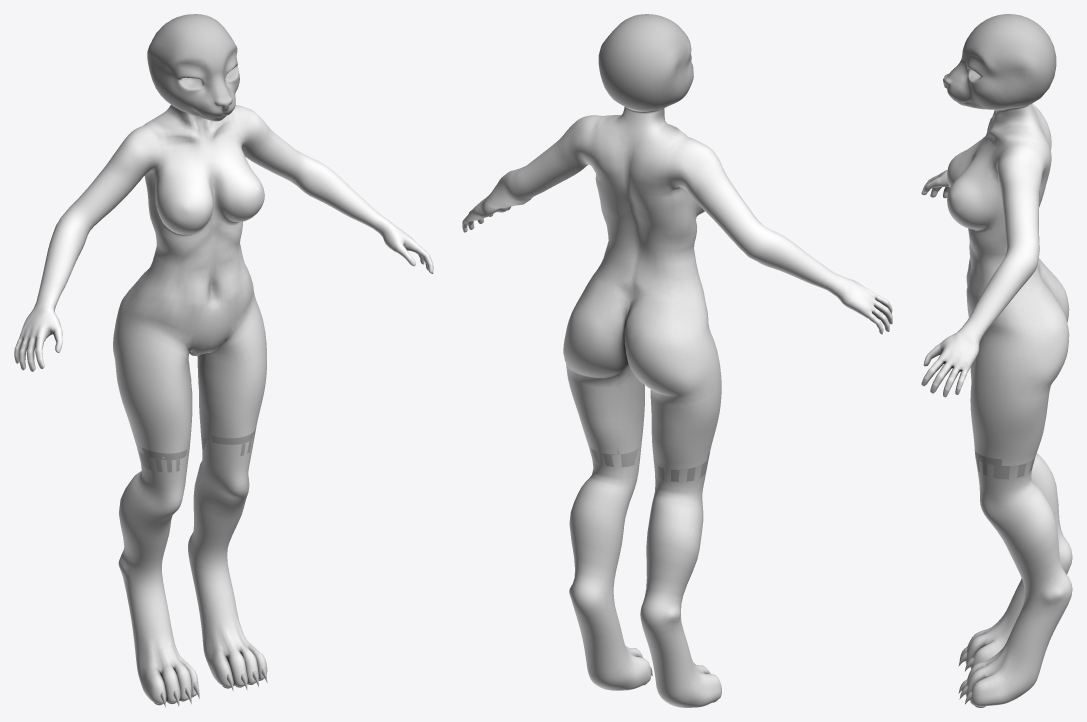
Rendered from MyBody Marv.obj.
3 renders of one model, left to right at view 1: azimuth 30°, elevation 25°; view 2: azimuth 150°, elevation 25°; view 3: azimuth 270°, elevation 25°, orthographic. The views are drawn at different scales.
Visible parts, largest first — view 1: Body, Digilegs, BestHead; view 2: Body, Digilegs, BestHead; view 3: Body, Digilegs, BestHead.
Boxes of the visible parts, x1,y1,x2,y2 form: Body: [14, 105, 433, 472]; Digilegs: [118, 427, 267, 707]; BestHead: [147, 14, 239, 121]; Body: [462, 106, 892, 481]; Digilegs: [569, 435, 721, 707]; BestHead: [598, 14, 693, 111]; Body: [921, 103, 1069, 479]; Digilegs: [958, 450, 1072, 707]; BestHead: [943, 14, 1056, 109].
Bounding box in the file's own units: 1.14 × 1.76 × 0.3634.
10 materials, 1 textured.
